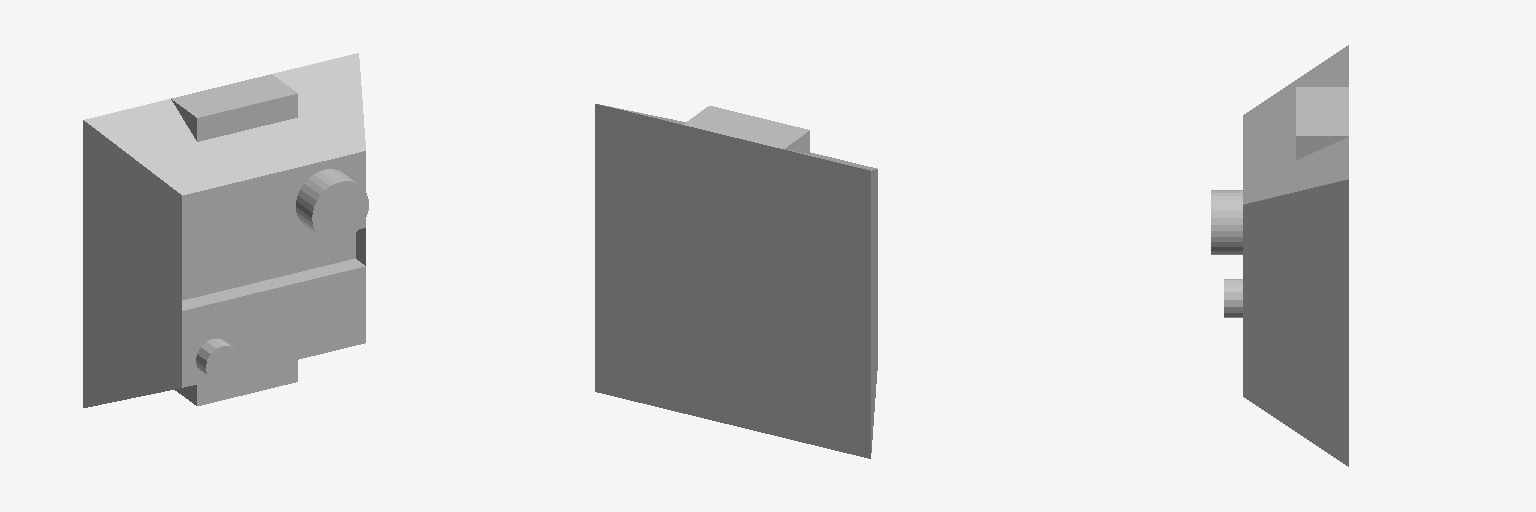
Rendered from Factory.obj.
3 renders of one model, left to right at view 1: azimuth 30°, elevation 25°; view 2: azimuth 150°, elevation 25°; view 3: azimuth 270°, elevation 25°, orthographic.
Visible parts, largest first — view 1: object_3, object_1, object_2; view 2: object_3, object_1; view 3: object_3, object_1.
Part boxes in pixels (bbox=[...]): object_3: bbox=[83, 53, 368, 407]; object_1: bbox=[171, 74, 297, 141]; object_2: bbox=[175, 360, 297, 405]; object_3: bbox=[595, 104, 877, 458]; object_1: bbox=[683, 106, 809, 153]; object_3: bbox=[1211, 45, 1348, 466]; object_1: bbox=[1296, 87, 1348, 159].
Size of the model in its own units: 3 by 3 by 1.31.